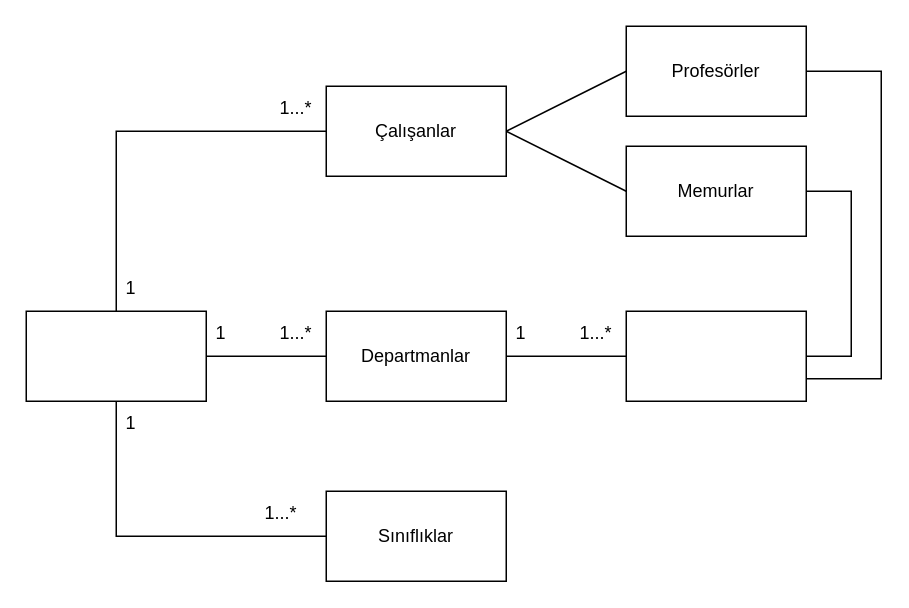
This 909x608 diagram has some shape labels left out. The shapes that lost their labels are listed below. From the top down, each one's box as (x1, y1, x2, y2) in pixels, then its label:
(25, 310, 206, 401): Üniversite
(625, 310, 806, 401): Ofisler
